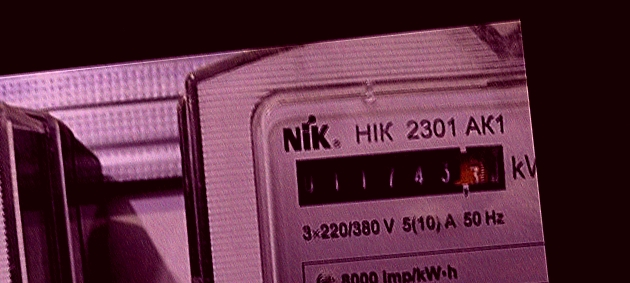0: (301, 167, 318, 196)
1: (328, 164, 344, 194), (355, 163, 371, 192)
3: (436, 158, 453, 186), (466, 164, 484, 187)
4: (411, 161, 427, 188)
7: (383, 163, 399, 189)
screen: (286, 132, 518, 220)
